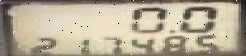-: (167, 27, 175, 32)
0: (177, 5, 213, 31), (129, 6, 164, 31)
1: (76, 37, 91, 53)
2: (30, 36, 53, 55)
4: (127, 35, 155, 54)
5: (192, 33, 215, 52)
7: (98, 35, 119, 54)
8: (159, 33, 185, 52)
